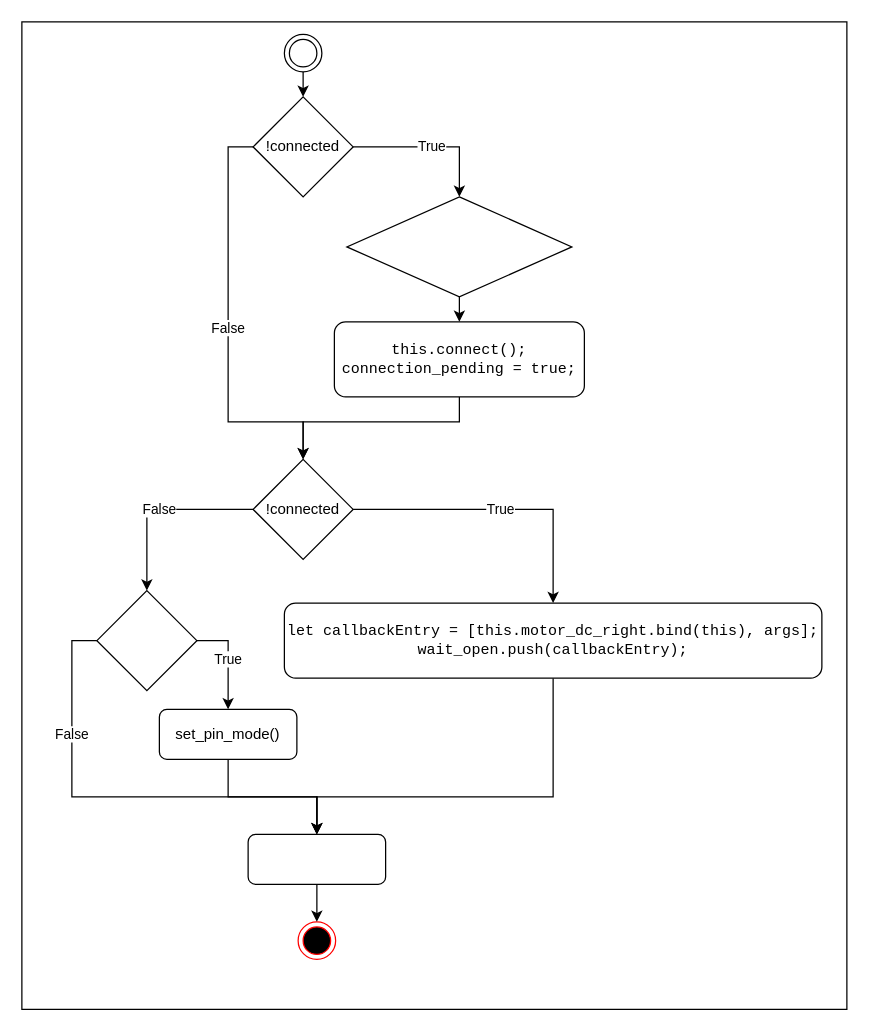
Some shapes in this 869 by 1031 pixel diagram are drawn without their labels. Each missing label, with the centre of its shape:
"! connection_pending" goes at pixel 459 246.
"getValue()" goes at pixel 316 858.
"pin_mode()" goes at pixel 146 640.
